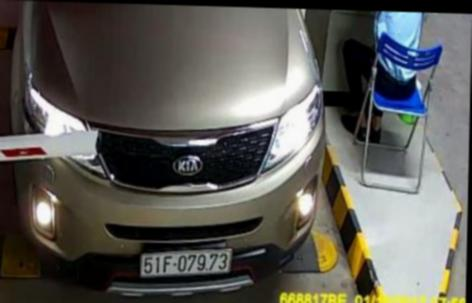License_Plate: (141, 250, 233, 279)
